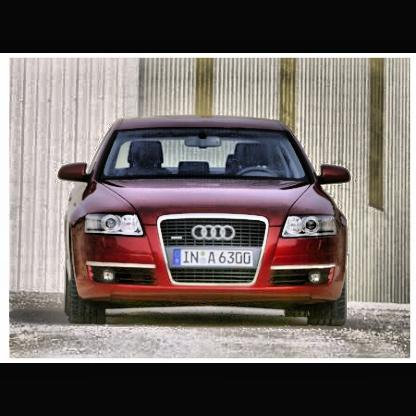Audi S6 Sedan 2011: (59, 118, 353, 329)
